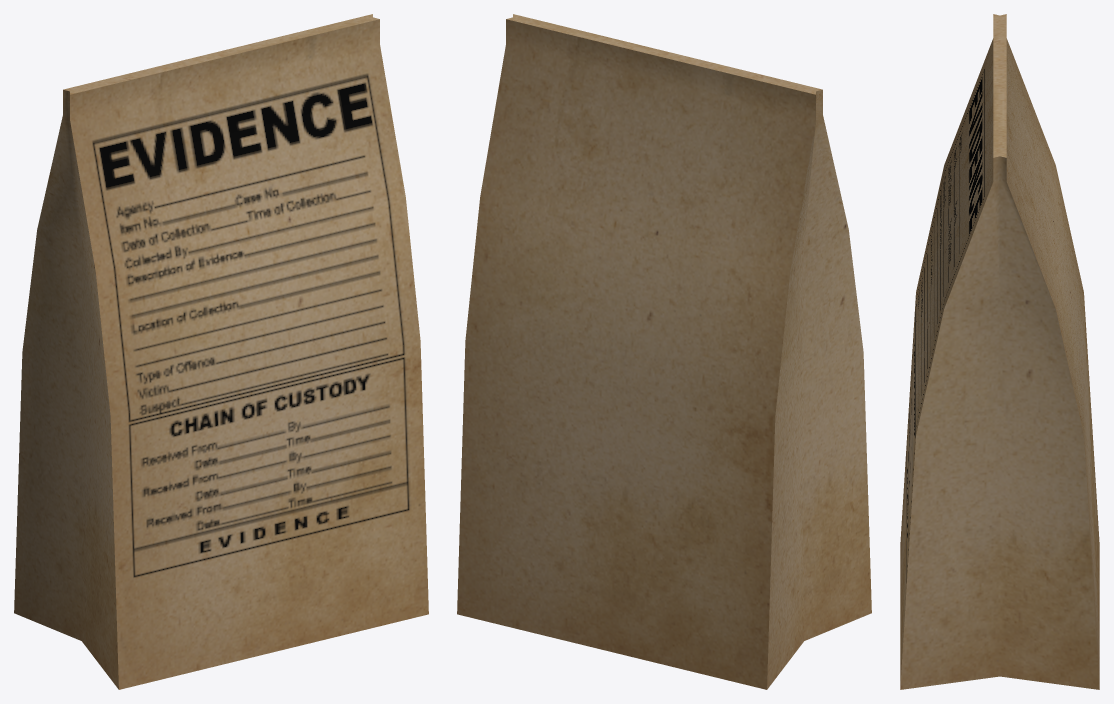
Rendered from evidence_bags_01_closed.fbx.
3 views of the same model, side by side, from view 1: azimuth 30°, elevation 25°; view 2: azimuth 150°, elevation 25°; view 3: azimuth 270°, elevation 25° (orthographic). The views are drawn at different scales.
Visible parts, largest first — view 1: Evidence bag closed; view 2: Evidence bag closed; view 3: Evidence bag closed.
Boxes of the visible parts, x1=… form: Evidence bag closed: x1=14, y1=14, x2=428, y2=689; Evidence bag closed: x1=457, y1=14, x2=871, y2=689; Evidence bag closed: x1=900, y1=14, x2=1099, y2=689.
Size of the model in its own units: 33.23 by 57.3 by 19.47.
